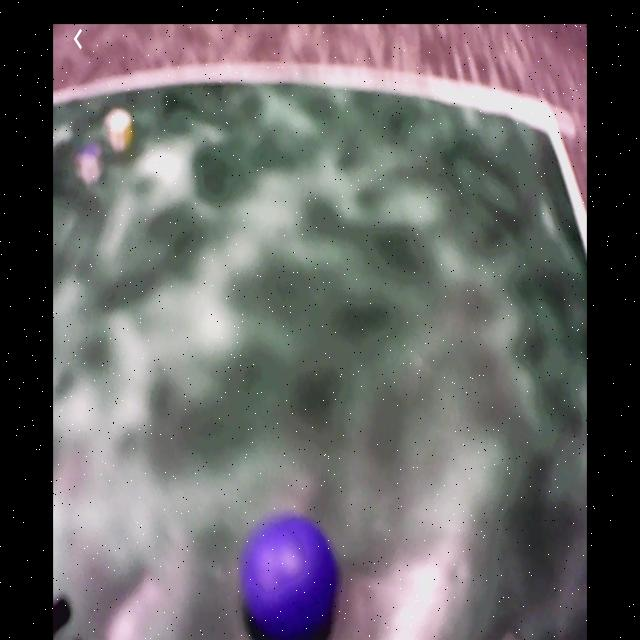ball: (243, 516, 339, 635)
